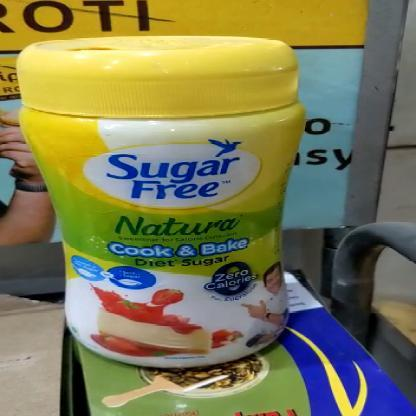SUGAR FREE NATURA DIET SUGAR 80GM: (13, 31, 309, 372)
